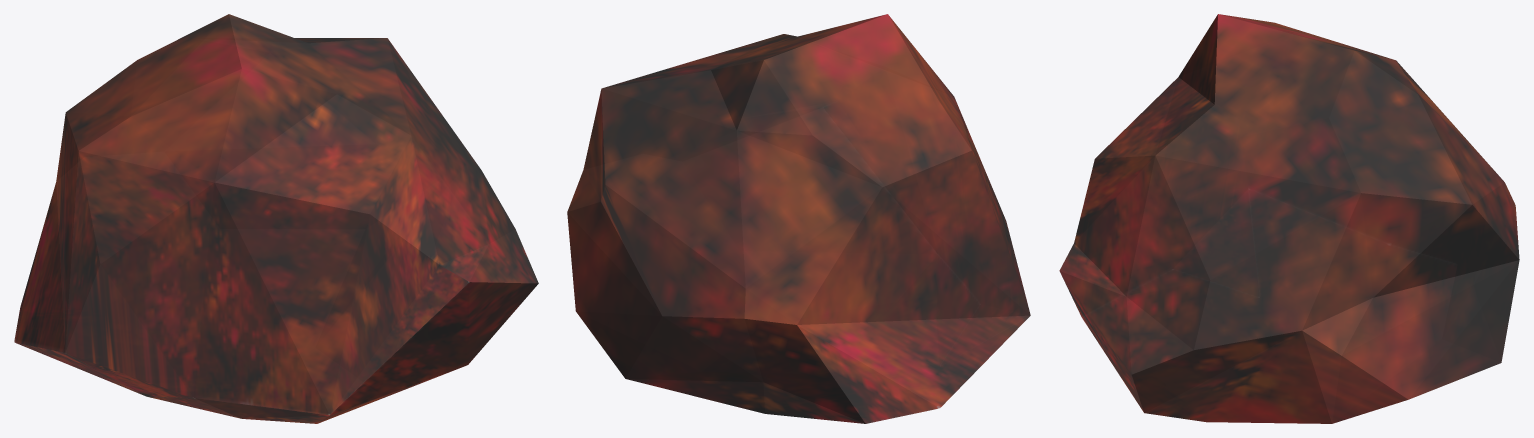
Rendered from Fuego_1.obj.
3 renders of one model, left to right at view 1: azimuth 30°, elevation 25°; view 2: azimuth 150°, elevation 25°; view 3: azimuth 270°, elevation 25°, orthographic.
Visible parts, largest first — view 1: Icosphere.001; view 2: Icosphere.001; view 3: Icosphere.001.
Boxes of the visible parts, x1=… form: Icosphere.001: x1=14, y1=14, x2=538, y2=423; Icosphere.001: x1=567, y1=14, x2=1030, y2=423; Icosphere.001: x1=1059, y1=14, x2=1519, y2=423.
Bounding box in the file's own units: 2.09 × 1.65 × 1.98.
Materials: 1 (1 with a texture image).
